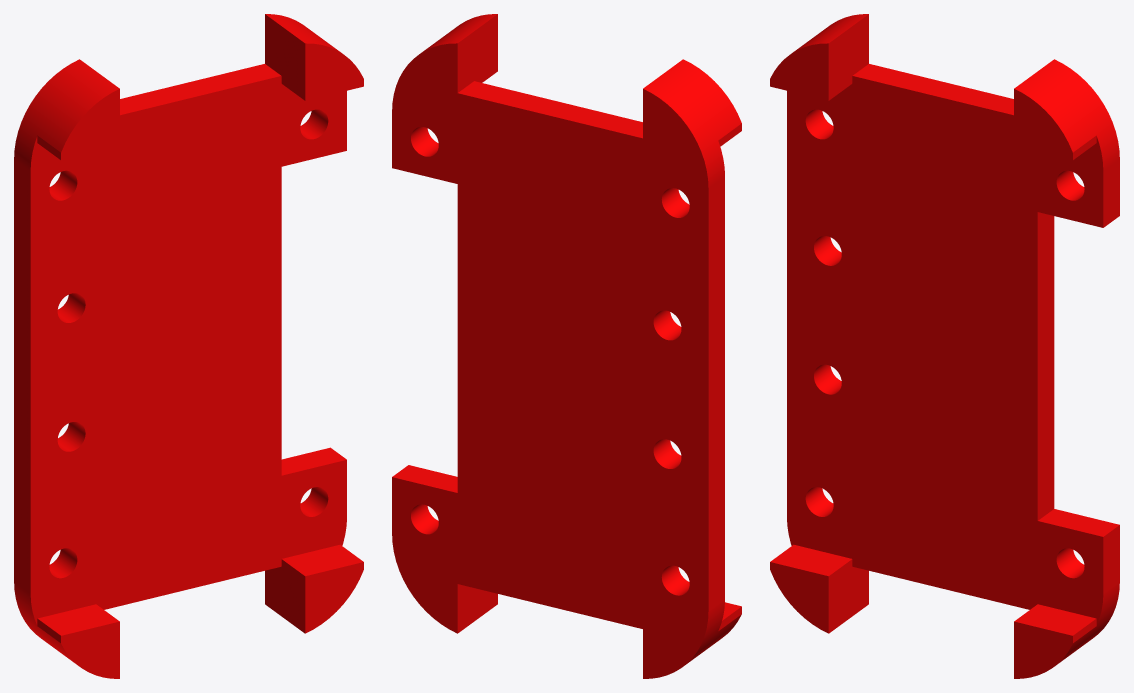
File: servo_cover.glb
3 renders of one model, left to right at view 1: azimuth 30°, elevation 25°; view 2: azimuth 150°, elevation 25°; view 3: azimuth 330°, elevation 25°, orthographic.
Bounding box in the file's own units: 0.0386 × 0.0688 × 0.0085.
